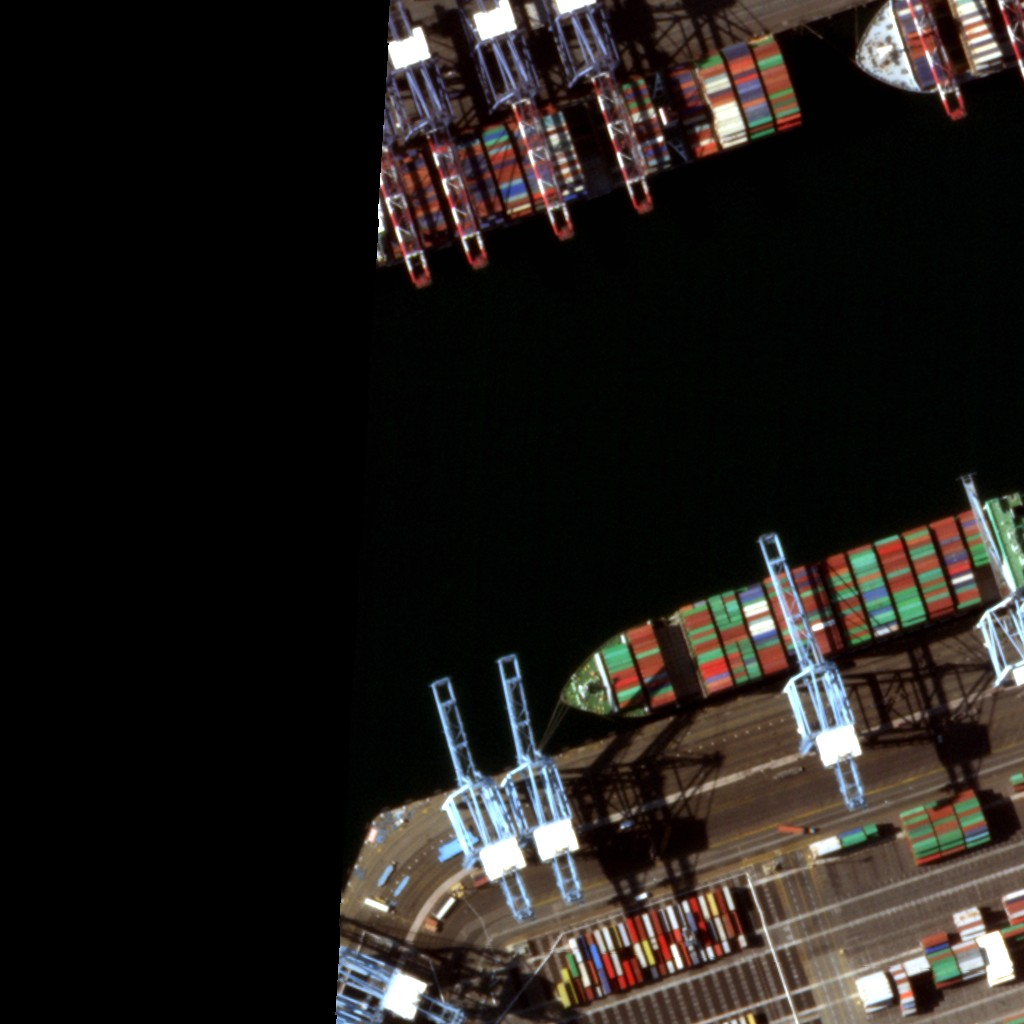boats: (560, 491, 1023, 718), (374, 38, 800, 256), (848, 0, 1022, 97)
cranes: (762, 544, 880, 816), (392, 27, 496, 275), (480, 0, 584, 241), (550, 6, 662, 217)
